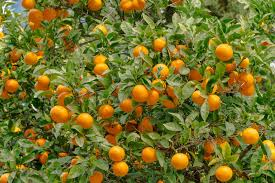orange: (168, 151, 189, 170), (150, 62, 170, 81), (203, 93, 222, 112), (49, 107, 70, 124), (142, 145, 159, 164), (131, 84, 149, 101), (75, 112, 93, 129), (93, 62, 111, 78), (107, 145, 126, 160), (97, 105, 115, 118)
